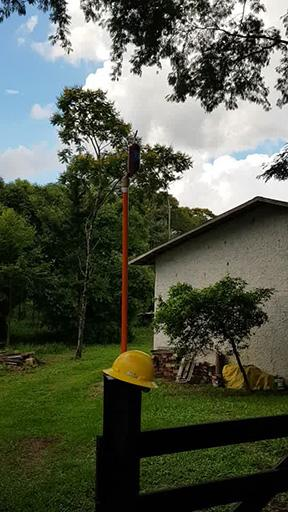Detector_Tensao_Contato: (124, 131, 141, 176)
Vara_Manobra: (118, 178, 129, 355)
